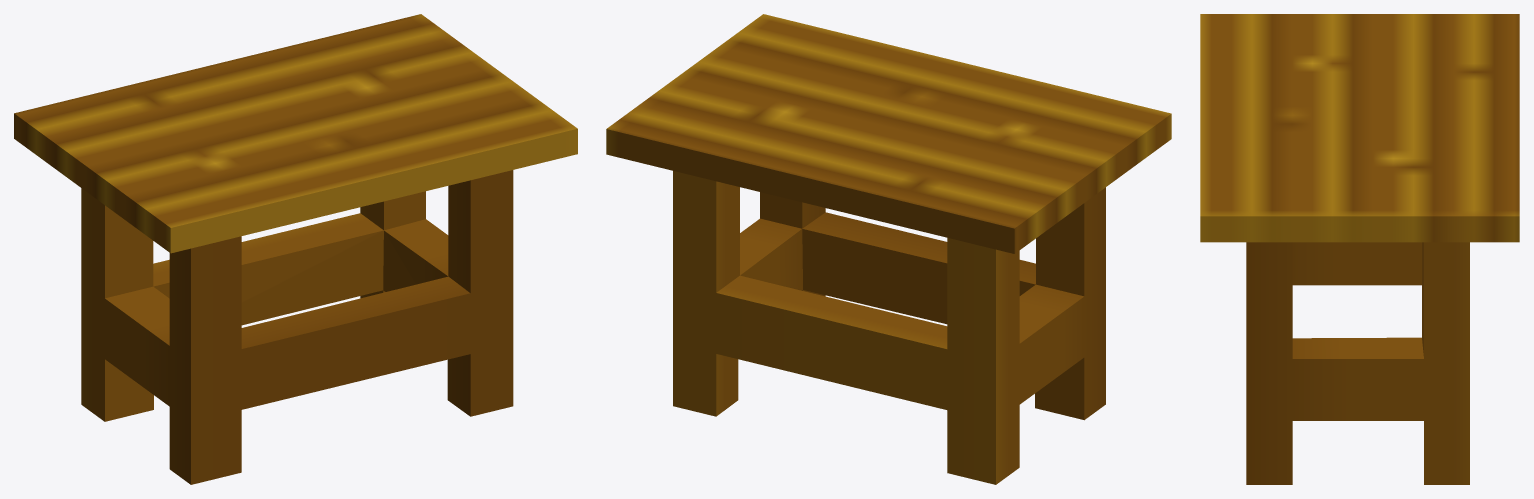
File: table_1000x00.obj
The picture shows the model from 3 angles, left to right: view 1: azimuth 30°, elevation 25°; view 2: azimuth 150°, elevation 25°; view 3: azimuth 270°, elevation 25°; orthographic projection.
Parts seen in each view (by area): view 1: Table_1000x0; view 2: Table_1000x0; view 3: Table_1000x0.
Part boxes in pixels (left/top/right/bottom): Table_1000x0: left=14, top=14, right=577, bottom=484; Table_1000x0: left=606, top=14, right=1171, bottom=484; Table_1000x0: left=1200, top=14, right=1519, bottom=484.
Bounding box in the file's own units: 3 × 2 × 2.
